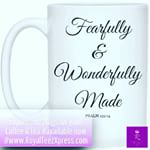cups: (1, 1, 149, 149)
